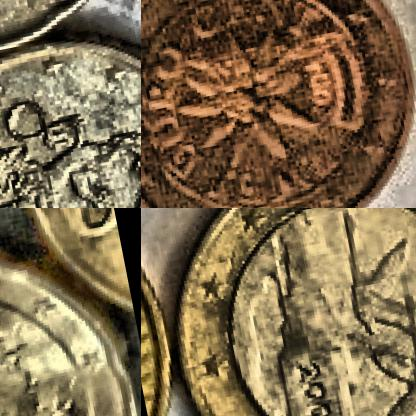coin: (141, 0, 415, 207), (141, 208, 415, 415), (0, 220, 140, 415), (0, 21, 140, 207)
